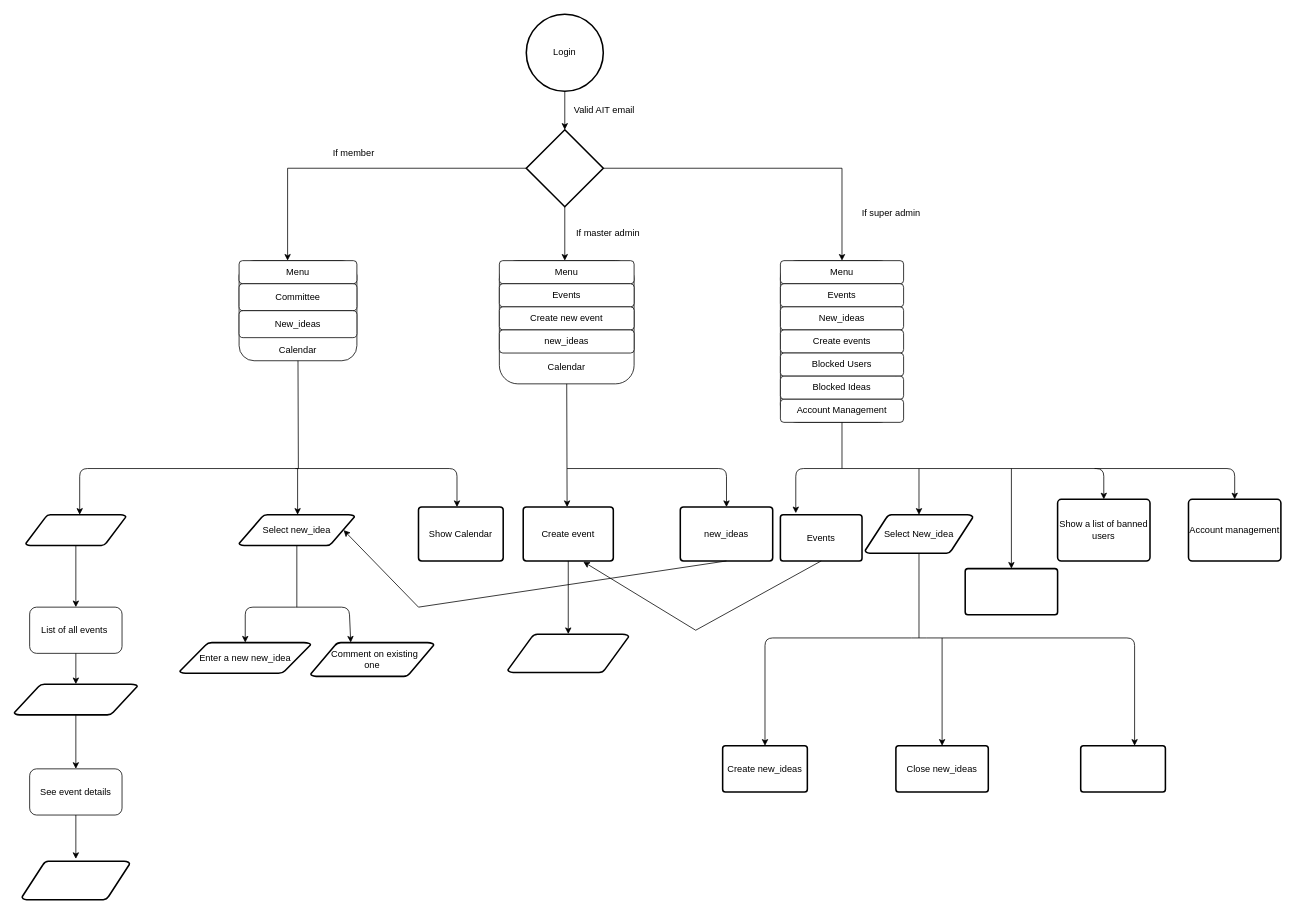
Image size: 1294x913. Some labels were removed from this diagram. The shapes that lost their labels are listed below. From the top down, each one's box as (x1, y1, x2, y2) in pixels, then its label:
(525, 129, 604, 207): Roles
(25, 514, 126, 546): Select committee
(964, 567, 1058, 615): Show a list of banned ideas
(507, 633, 629, 673): Input event details
(13, 683, 138, 715): Select event
(1080, 745, 1166, 792): Block new_ideas
(21, 860, 130, 900): Apply to volunteer
